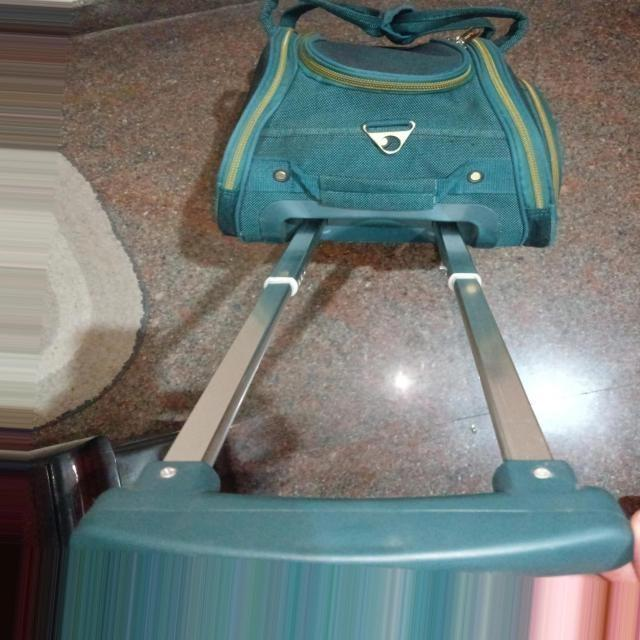Suitcase: (88, 4, 640, 594)
